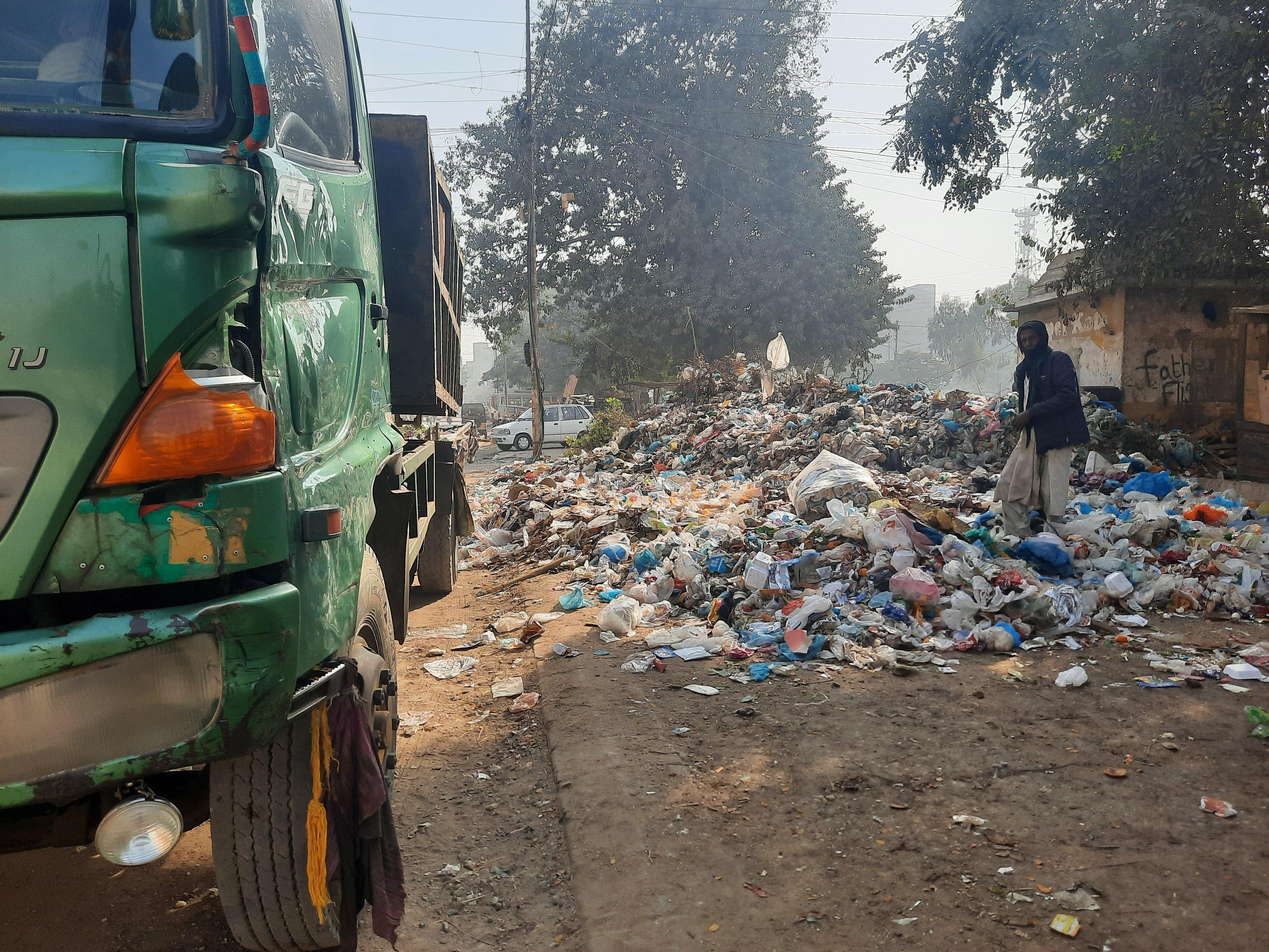garbage: (499, 348, 1269, 692)
